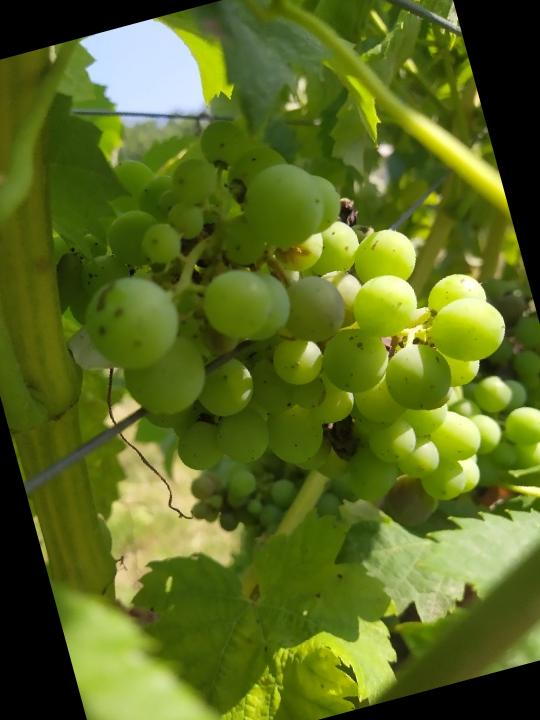grape: (28, 59, 540, 604)
